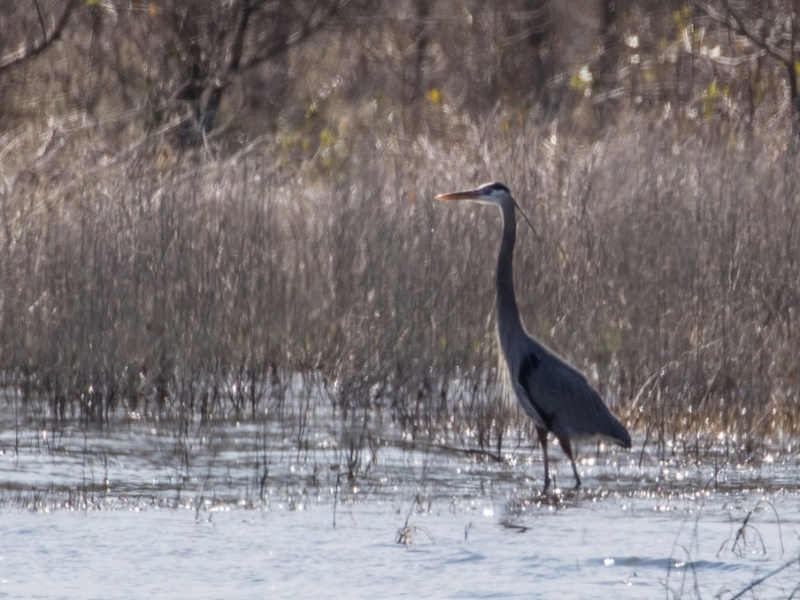heron: (429, 178, 637, 508)
